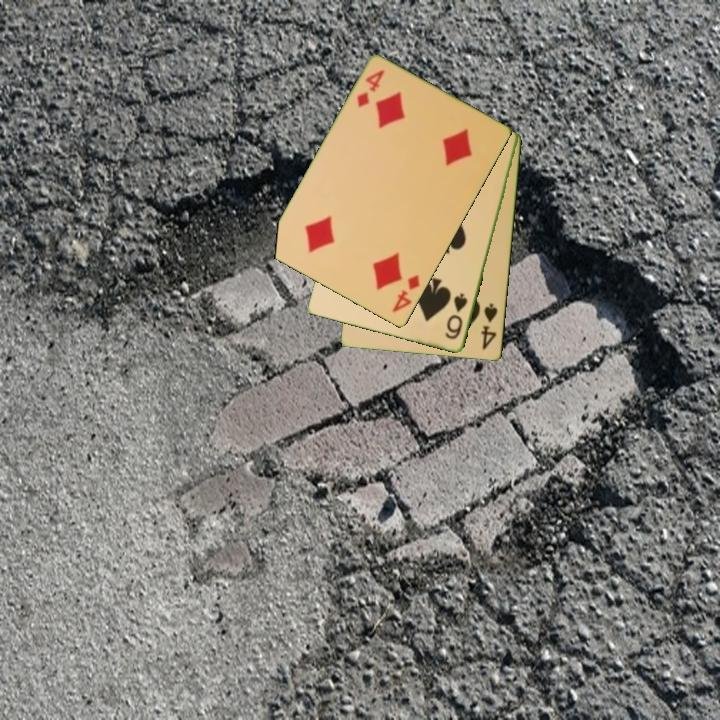4d: (353, 67, 388, 111), (389, 271, 423, 316)
4s: (478, 300, 501, 353)
6s: (442, 290, 471, 343)
